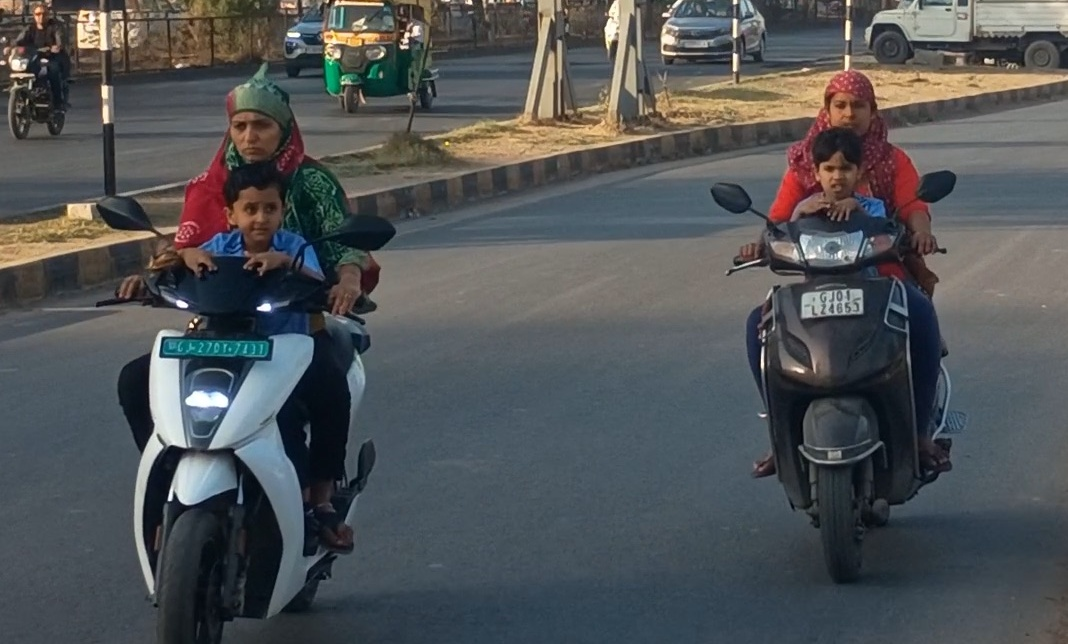BikeWithRider: (86, 76, 401, 644), (705, 64, 967, 589), (1, 1, 83, 142)
NoHelmet: (222, 78, 293, 165), (224, 165, 285, 246), (819, 69, 883, 139), (810, 129, 866, 199), (30, 4, 53, 29)
